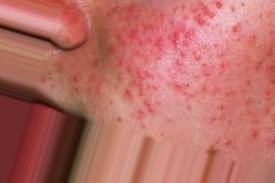Acne: (124, 3, 169, 32), (125, 73, 158, 103), (136, 105, 172, 132), (224, 26, 260, 52), (180, 8, 219, 31), (113, 33, 141, 65), (164, 28, 194, 56), (175, 63, 203, 93)
